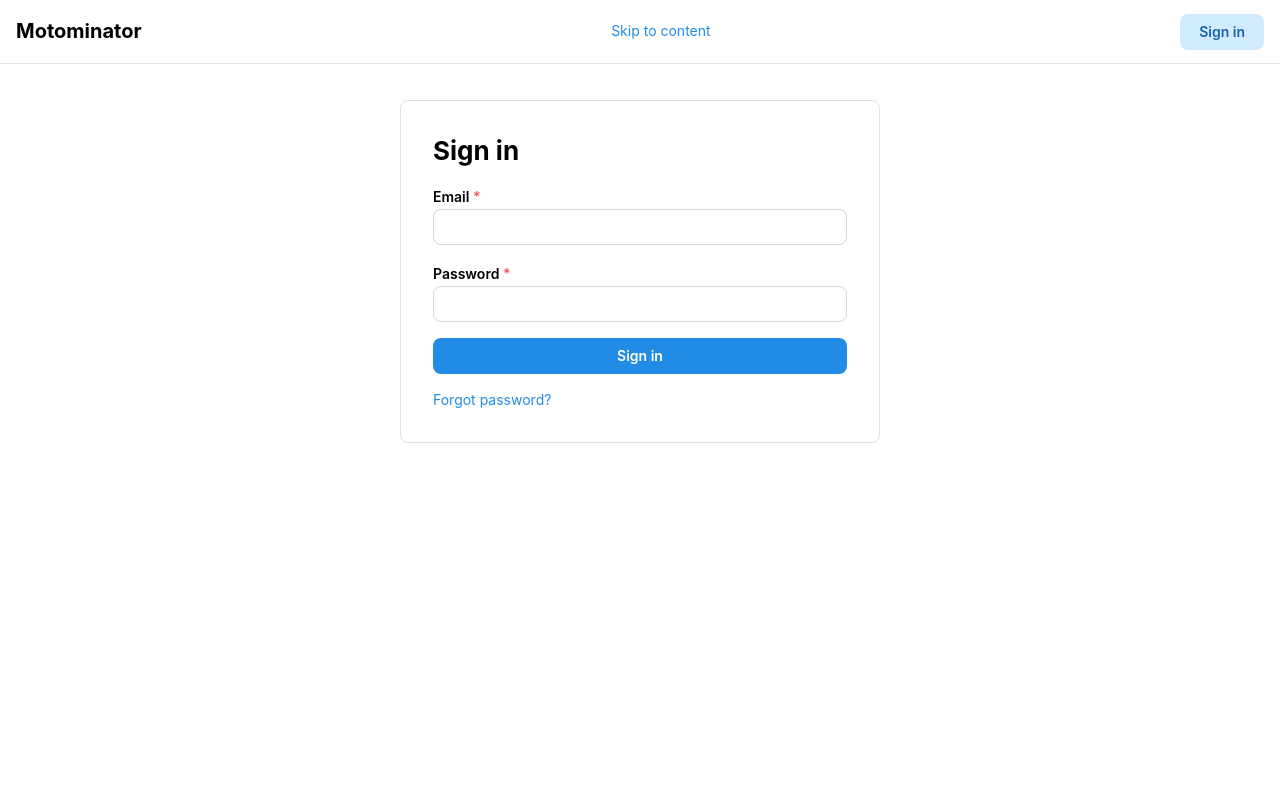
Test: updates the profile and resends verification
Expected: the heading "Sign in" is shown, [433,135,519,166]
Submit the form "Sign in", box [433,184,847,374]
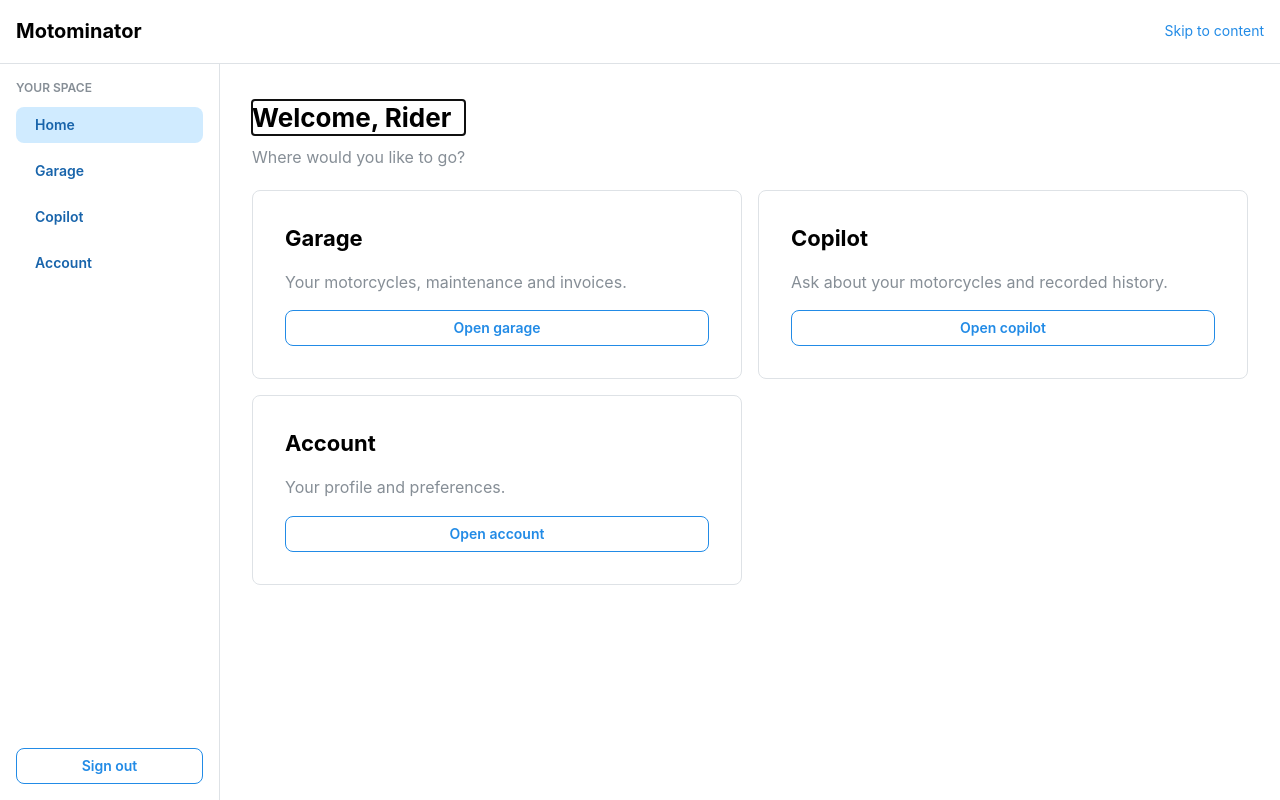
Expected: the heading "Welcome, Rider" is shown, [252,100,465,135]
Click the link "Open account" at (497, 534), box [285,516,709,552]
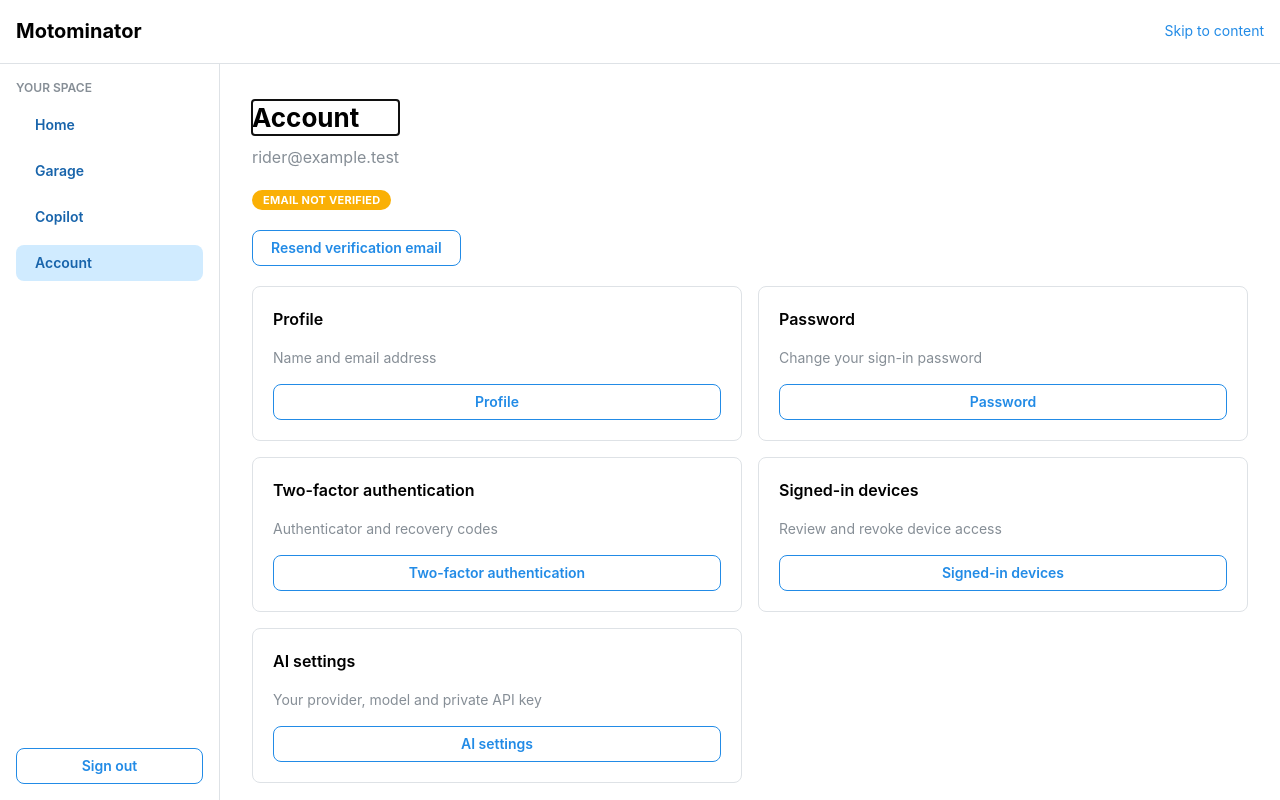
Click the link "Profile" at (497, 402), box [273,384,721,420]
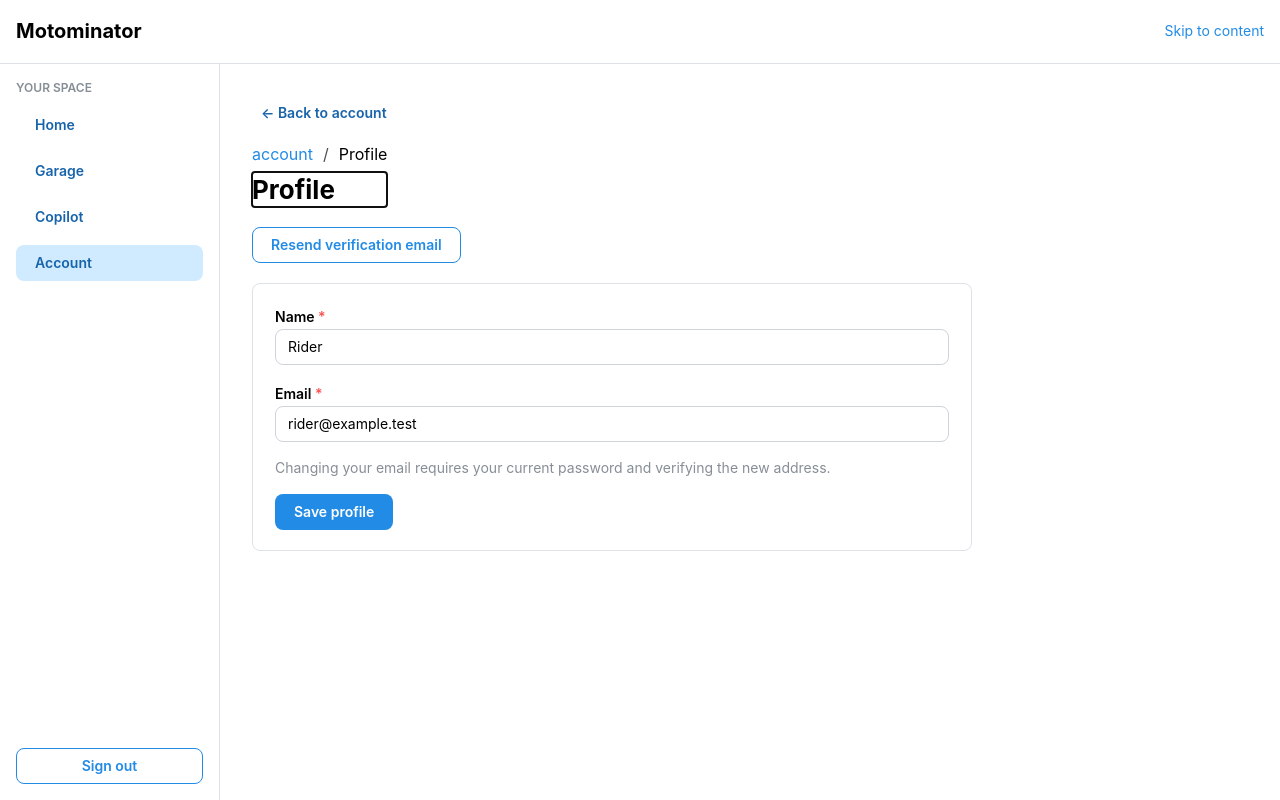
Replace the text in the field labelled "Name *" with "Updated Rider" at (612, 347), box [275,329,949,365]
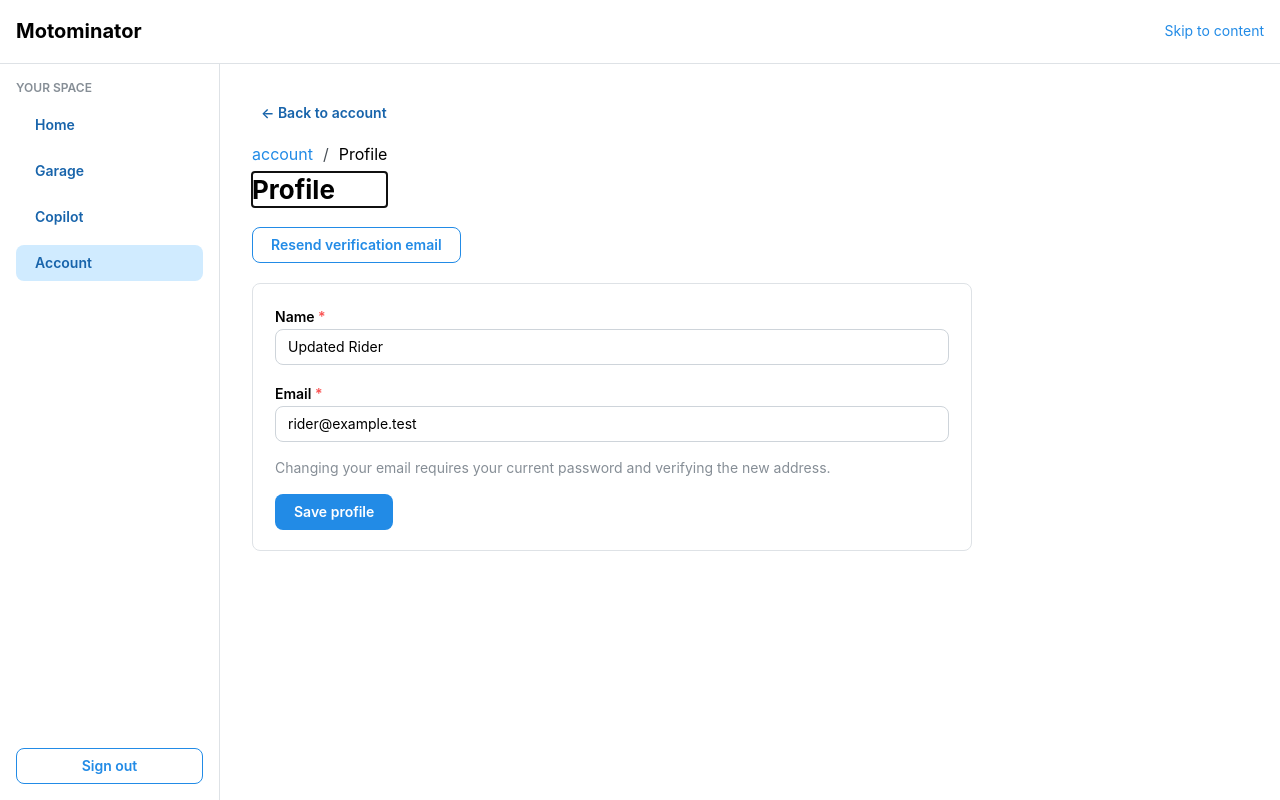
Click the button "Save profile" at (334, 512), box [275,494,393,530]
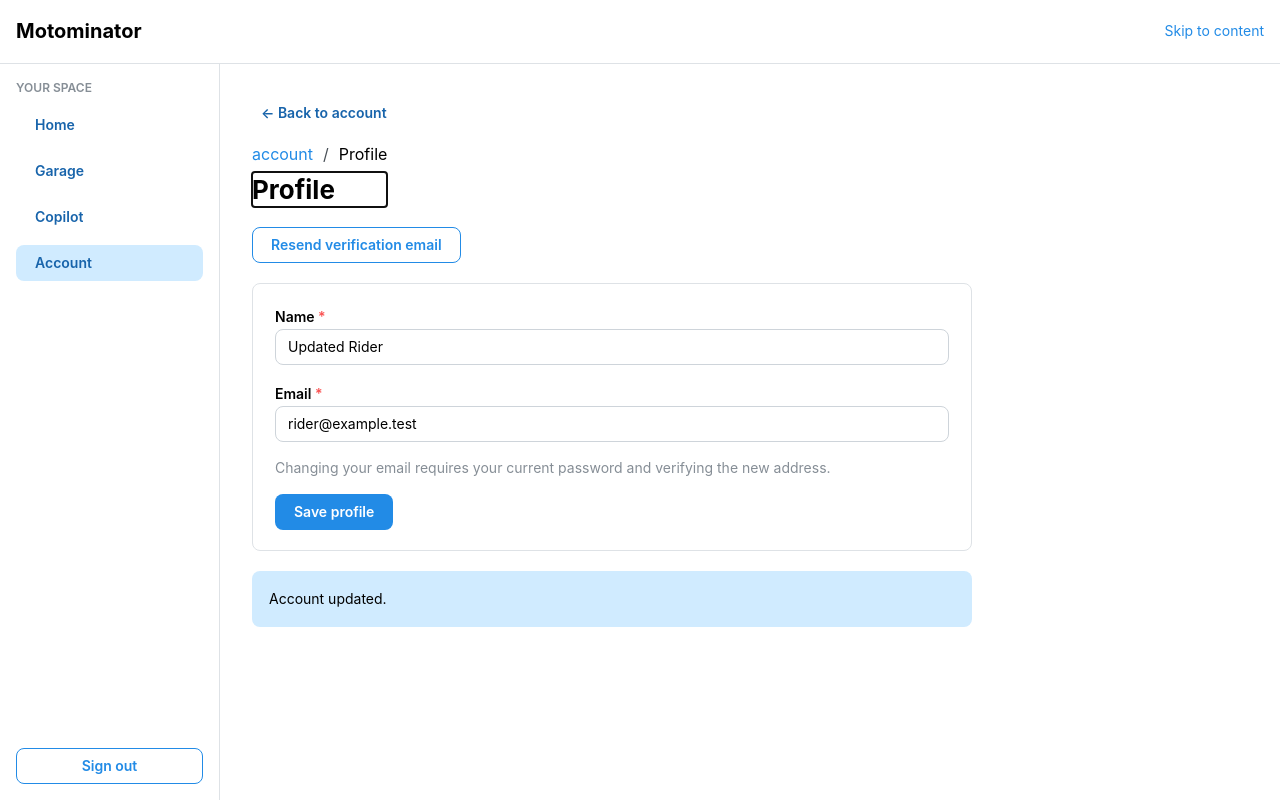
Expected: the text "Account updated." is shown, [269,590,387,607]
Click the button "Resend verification email" at (356, 245), box [252,227,461,263]
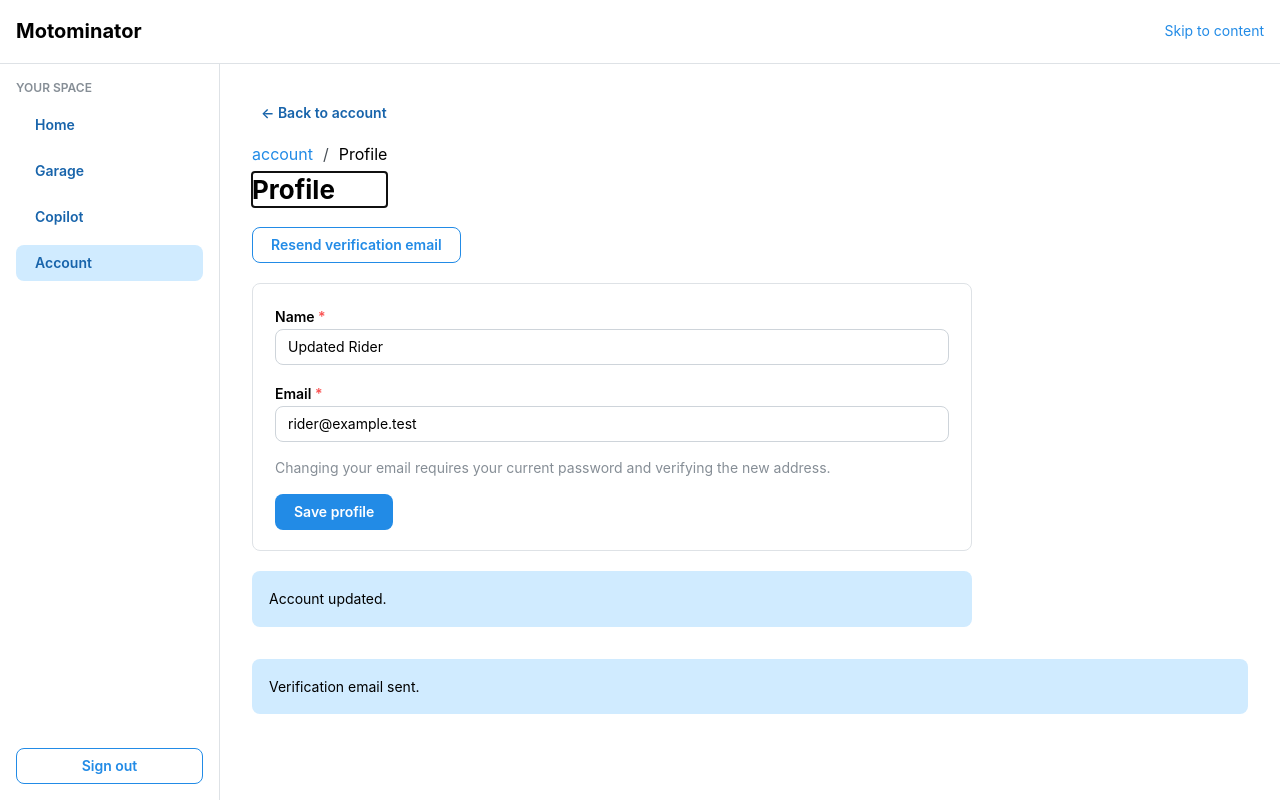
Expected: the text "Verification email sent." is shown, [269,678,420,695]
